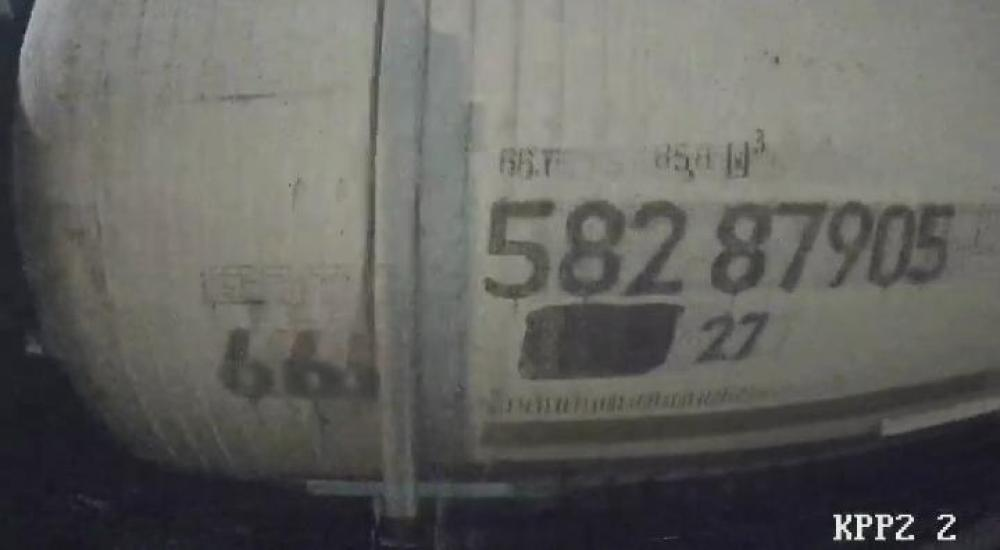Wagon-number: (479, 194, 961, 302)
